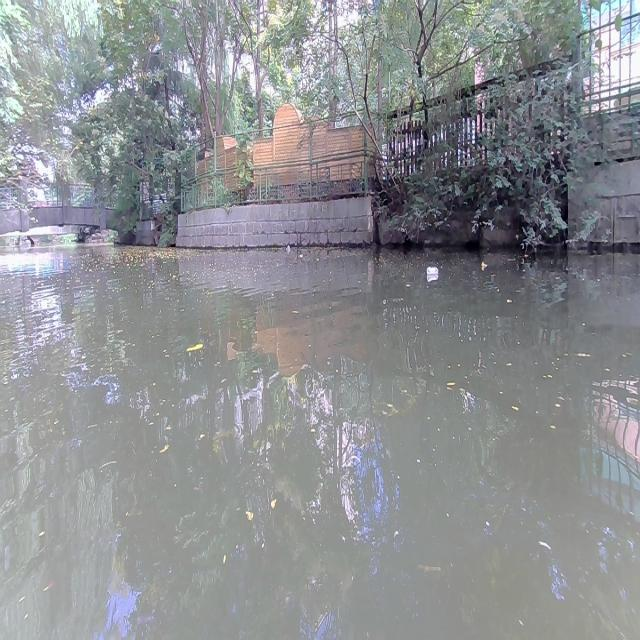bottle: (426, 263, 438, 278), (286, 244, 288, 247)
